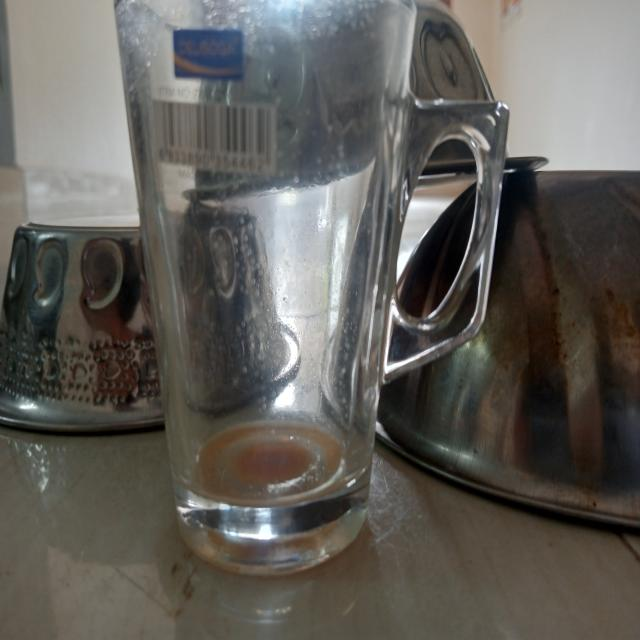glass-VX4N: (114, 0, 510, 579)
